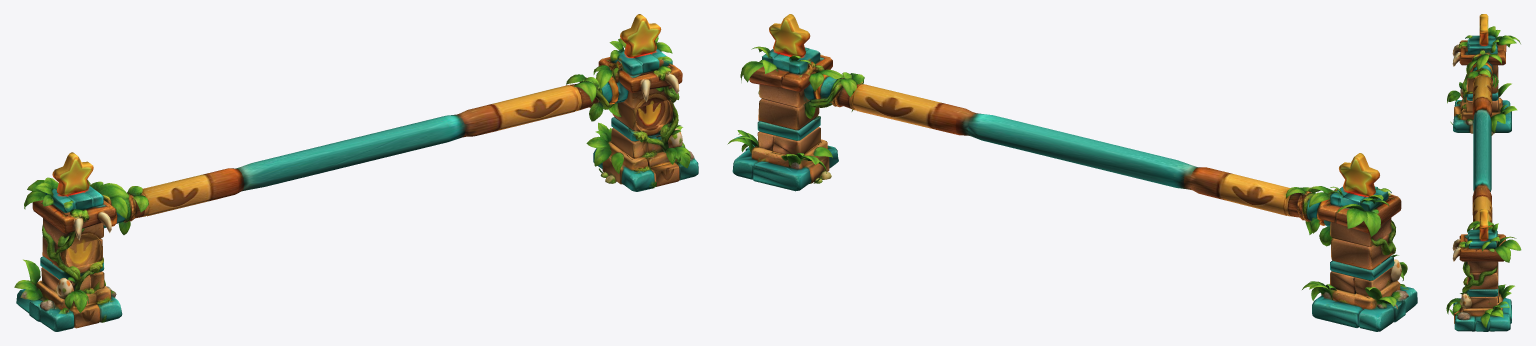
The model's file is hurdle_low.glb.
3 views of the same model, side by side, from view 1: azimuth 30°, elevation 25°; view 2: azimuth 150°, elevation 25°; view 3: azimuth 270°, elevation 25° (orthographic). The views are drawn at different scales.
Parts seen in each view (by area): view 1: hurdle_low; view 2: hurdle_low; view 3: hurdle_low.
Boxes of the visible parts, bbox=[...] form: hurdle_low: bbox=[14, 14, 698, 331]; hurdle_low: bbox=[727, 14, 1417, 331]; hurdle_low: bbox=[1446, 14, 1521, 331].
Size of the model in its own units: 14.25 by 3.2 by 1.99.
1 material, 1 textured.
